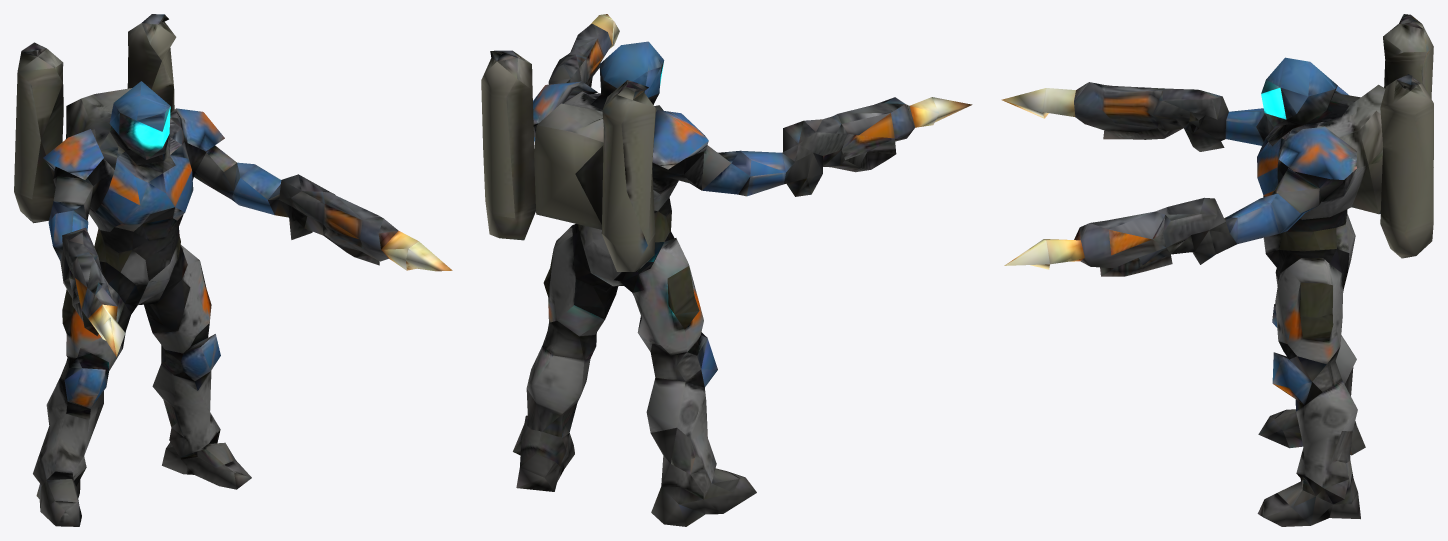
File: unit_flamer.glb
The picture shows the model from 3 angles, left to right: view 1: azimuth 30°, elevation 25°; view 2: azimuth 150°, elevation 25°; view 3: azimuth 270°, elevation 25°; orthographic projection. The views are drawn at different scales.
Visible parts, largest first — view 1: unit_flamer; view 2: unit_flamer; view 3: unit_flamer.
Part boxes in pixels (box(x1,y1,x2,y2)): unit_flamer: box(14, 14, 452, 526); unit_flamer: box(481, 14, 972, 526); unit_flamer: box(1001, 14, 1433, 526).
Size of the model in its own units: 0.8257 by 1 by 0.8939.
Materials: 1 (1 with a texture image).
